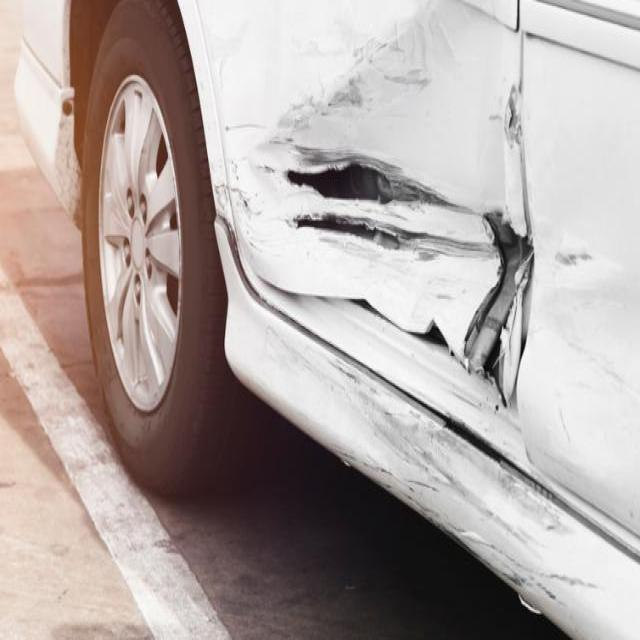Dent: (218, 8, 619, 449), (478, 434, 640, 594), (541, 275, 640, 421), (288, 204, 498, 260), (318, 257, 458, 336), (216, 206, 288, 315), (207, 6, 272, 99), (436, 407, 516, 475), (221, 156, 290, 222), (501, 75, 529, 236), (409, 9, 456, 83), (296, 9, 365, 59), (430, 310, 474, 360), (0, 242, 41, 291), (319, 74, 366, 111), (450, 524, 495, 552), (382, 65, 428, 84), (492, 359, 508, 409), (557, 401, 575, 443), (513, 252, 531, 293), (212, 179, 234, 212), (554, 248, 591, 266), (385, 24, 405, 56), (224, 120, 264, 134), (480, 210, 497, 242), (130, 373, 150, 392), (0, 478, 16, 490), (132, 86, 141, 99), (344, 580, 356, 589), (492, 401, 499, 412), (221, 123, 228, 131)
